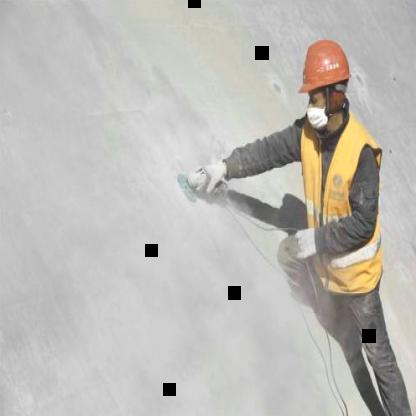helmet: (296, 33, 352, 129)
